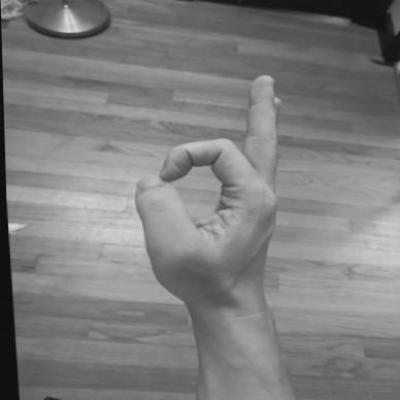hand: (124, 73, 296, 313)
